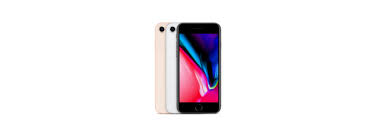iphone: (173, 21, 225, 115)
iphone8: (173, 21, 225, 115)
